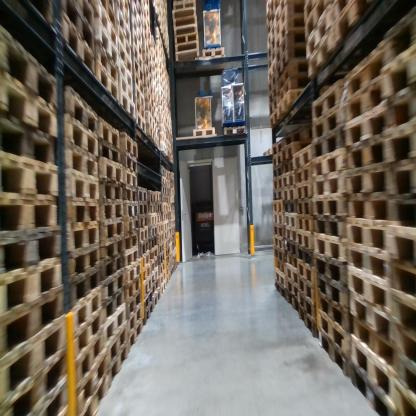pallet: (1, 316, 70, 406), (2, 26, 60, 121), (1, 281, 68, 362), (2, 68, 62, 141), (1, 257, 65, 319), (2, 108, 61, 175), (5, 353, 67, 413), (0, 223, 64, 281), (2, 193, 60, 250), (1, 147, 59, 200), (351, 334, 394, 397), (347, 265, 392, 321), (306, 25, 344, 86), (347, 291, 391, 343), (351, 360, 393, 412), (332, 3, 385, 44), (344, 45, 382, 101), (304, 7, 341, 64), (381, 11, 414, 74), (345, 78, 384, 130), (61, 14, 95, 73), (344, 131, 387, 177), (348, 100, 389, 147), (382, 42, 414, 102), (346, 245, 391, 287), (320, 329, 357, 379), (344, 219, 389, 259), (352, 322, 393, 365), (64, 88, 102, 134), (384, 252, 414, 308), (77, 353, 108, 407), (385, 78, 414, 135), (316, 286, 351, 331), (385, 220, 414, 274), (314, 250, 350, 293), (384, 116, 416, 164), (64, 114, 100, 156), (312, 77, 342, 127), (64, 168, 104, 205), (312, 104, 345, 148), (70, 266, 103, 310), (60, 145, 100, 181), (94, 19, 120, 74), (382, 151, 416, 193), (319, 310, 350, 356), (77, 329, 104, 381), (92, 4, 123, 49), (66, 243, 100, 284), (313, 127, 346, 169), (92, 60, 122, 106), (391, 310, 416, 365), (391, 346, 416, 401), (74, 313, 105, 357), (387, 291, 414, 341), (315, 273, 347, 315), (313, 146, 347, 185), (344, 165, 388, 195), (62, 3, 92, 47), (65, 221, 102, 256), (347, 192, 389, 221), (304, 0, 331, 43), (75, 290, 102, 333), (90, 41, 117, 84), (314, 189, 348, 222), (82, 377, 112, 414), (387, 193, 414, 234), (311, 208, 345, 239), (275, 13, 304, 47), (100, 270, 128, 305), (102, 306, 128, 343), (274, 2, 302, 36), (274, 28, 301, 63), (312, 169, 344, 198), (102, 289, 128, 324), (99, 253, 126, 286), (315, 234, 344, 264), (65, 200, 102, 223), (102, 225, 124, 262), (280, 88, 307, 118), (393, 377, 415, 413), (106, 327, 126, 365), (279, 61, 307, 88), (43, 386, 70, 414), (278, 76, 309, 100), (276, 47, 304, 73), (100, 193, 122, 225), (97, 119, 121, 148), (119, 87, 138, 123), (100, 173, 124, 201), (299, 303, 318, 338), (126, 302, 145, 335), (97, 158, 122, 183), (102, 217, 124, 245), (116, 133, 139, 159), (107, 350, 126, 381), (296, 289, 316, 318), (281, 140, 305, 164), (117, 150, 139, 176), (284, 125, 304, 153), (296, 273, 315, 302), (298, 243, 317, 272), (118, 233, 139, 259), (127, 321, 144, 353), (118, 57, 134, 90), (175, 48, 204, 66), (117, 12, 134, 42), (68, 0, 90, 23), (97, 137, 121, 158), (118, 27, 132, 63), (296, 258, 316, 283), (100, 0, 117, 29), (296, 148, 316, 171), (296, 214, 314, 239), (130, 15, 144, 47), (333, 0, 353, 22), (296, 167, 316, 189), (118, 73, 133, 101), (130, 2, 144, 32), (296, 195, 315, 217), (119, 201, 138, 223), (126, 292, 143, 316), (296, 228, 316, 248), (203, 42, 225, 60), (131, 29, 145, 57), (173, 20, 199, 35), (222, 124, 249, 138), (118, 44, 131, 73), (192, 126, 217, 141), (126, 263, 143, 284), (173, 40, 200, 53), (173, 14, 198, 28), (270, 134, 284, 159), (133, 57, 144, 88), (122, 211, 137, 233), (285, 262, 297, 289), (118, 1, 130, 28), (132, 43, 144, 70), (282, 153, 296, 176), (274, 278, 288, 301), (286, 289, 298, 315), (268, 106, 281, 130), (136, 111, 148, 137), (303, 2, 317, 24), (141, 53, 153, 78), (282, 169, 298, 187), (172, 7, 198, 18), (125, 248, 140, 267), (174, 32, 199, 43), (266, 23, 277, 48), (268, 56, 279, 81), (296, 179, 310, 198), (285, 237, 299, 256), (272, 247, 286, 266), (137, 253, 151, 272), (284, 182, 296, 204), (128, 279, 140, 301), (283, 212, 296, 232), (267, 94, 280, 114), (136, 85, 146, 111), (141, 265, 152, 288), (135, 185, 149, 203), (145, 71, 154, 99), (266, 1, 276, 26), (268, 48, 278, 72), (123, 170, 138, 186), (274, 266, 287, 284), (272, 224, 285, 242), (137, 240, 150, 258), (172, 2, 197, 11), (123, 186, 138, 201), (146, 120, 155, 145), (143, 276, 153, 298), (133, 71, 144, 91), (287, 278, 297, 299), (285, 225, 296, 244), (138, 225, 149, 244), (274, 213, 287, 229), (143, 302, 153, 322), (144, 30, 152, 55), (143, 91, 153, 111), (267, 36, 276, 58), (269, 84, 280, 102), (143, 21, 152, 43), (272, 200, 287, 213), (144, 291, 153, 312), (284, 195, 295, 212), (272, 174, 283, 191), (269, 74, 280, 91), (132, 1, 143, 18), (285, 254, 297, 269), (275, 258, 287, 273), (274, 1, 286, 16), (157, 270, 167, 288), (144, 100, 154, 118), (152, 290, 161, 309), (136, 101, 145, 120), (147, 237, 157, 254), (143, 2, 150, 26), (146, 64, 153, 88), (150, 245, 158, 265), (157, 251, 167, 267), (272, 187, 284, 200), (261, 144, 272, 158), (272, 153, 283, 167), (138, 217, 149, 231), (150, 260, 160, 275), (143, 11, 150, 32), (271, 168, 283, 180), (267, 16, 275, 34), (137, 205, 149, 217), (151, 277, 159, 295), (272, 238, 285, 249), (160, 280, 168, 297), (150, 221, 157, 240), (147, 111, 154, 130), (150, 211, 158, 227), (157, 242, 166, 256), (151, 267, 159, 282), (159, 259, 166, 276), (157, 222, 164, 239), (158, 174, 167, 187), (148, 189, 156, 203), (156, 234, 164, 248), (149, 201, 156, 214), (155, 190, 162, 203), (157, 213, 163, 228), (156, 202, 163, 214), (160, 166, 167, 178), (162, 221, 169, 233), (164, 243, 170, 254), (165, 256, 171, 267), (161, 186, 167, 196), (161, 193, 167, 203), (166, 264, 171, 276), (162, 213, 169, 221), (144, 1, 151, 9), (266, 2, 270, 15), (162, 203, 167, 213), (163, 238, 169, 246), (165, 277, 170, 286), (165, 227, 168, 238)
